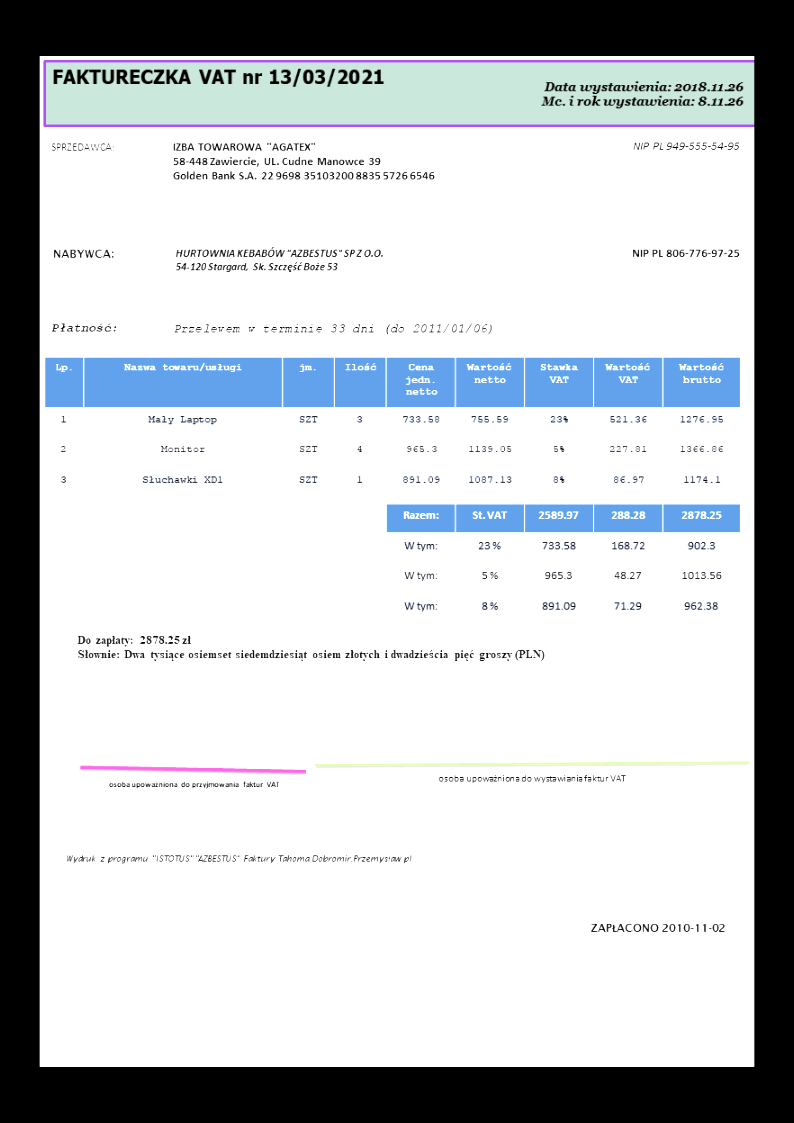Table: (43, 355, 742, 502), (385, 503, 741, 626)
TextBox: (75, 632, 547, 664), (170, 140, 437, 183), (50, 66, 385, 89), (537, 79, 744, 110), (174, 247, 385, 273), (64, 852, 414, 866), (173, 322, 495, 337), (436, 773, 626, 785), (106, 778, 280, 791), (588, 919, 726, 935), (629, 247, 740, 260), (631, 140, 741, 152), (50, 320, 119, 335), (50, 139, 115, 154), (51, 246, 114, 260)
